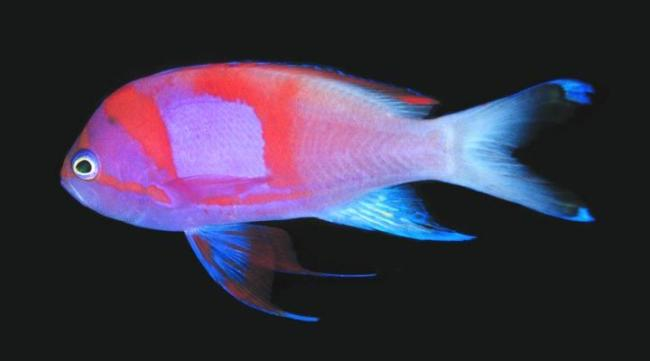fish: (58, 60, 592, 322)
